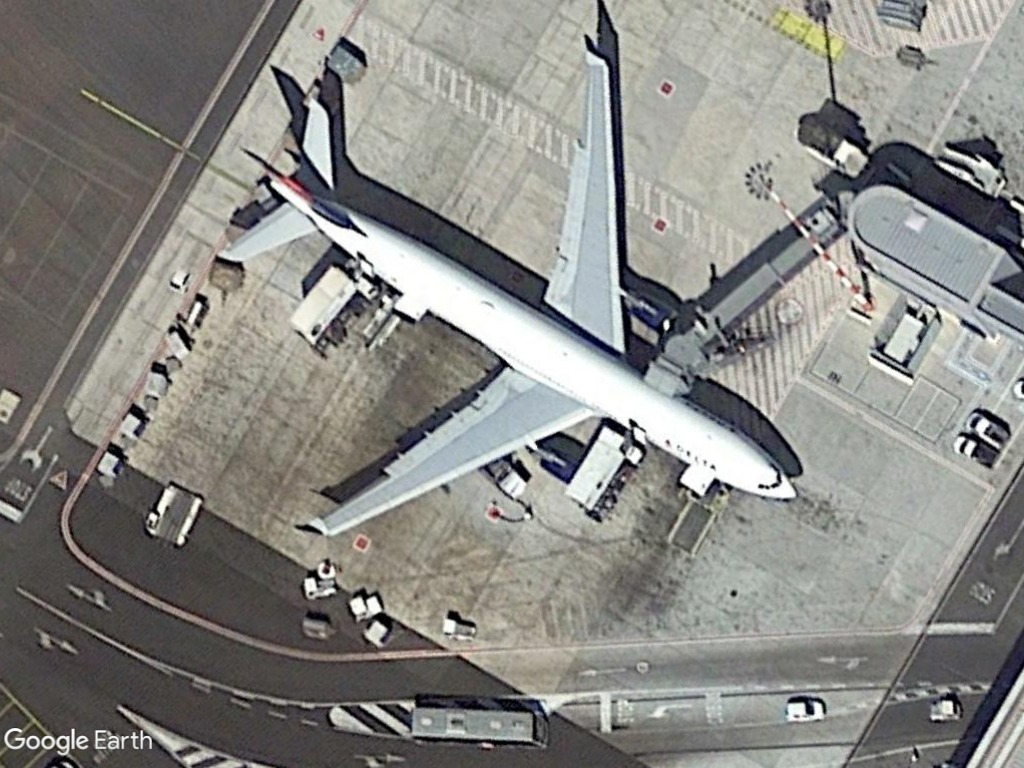airliner: (219, 49, 802, 538)
bus: (401, 700, 555, 754)
other: (782, 697, 827, 725)
stairtruck: (931, 140, 1008, 201)
